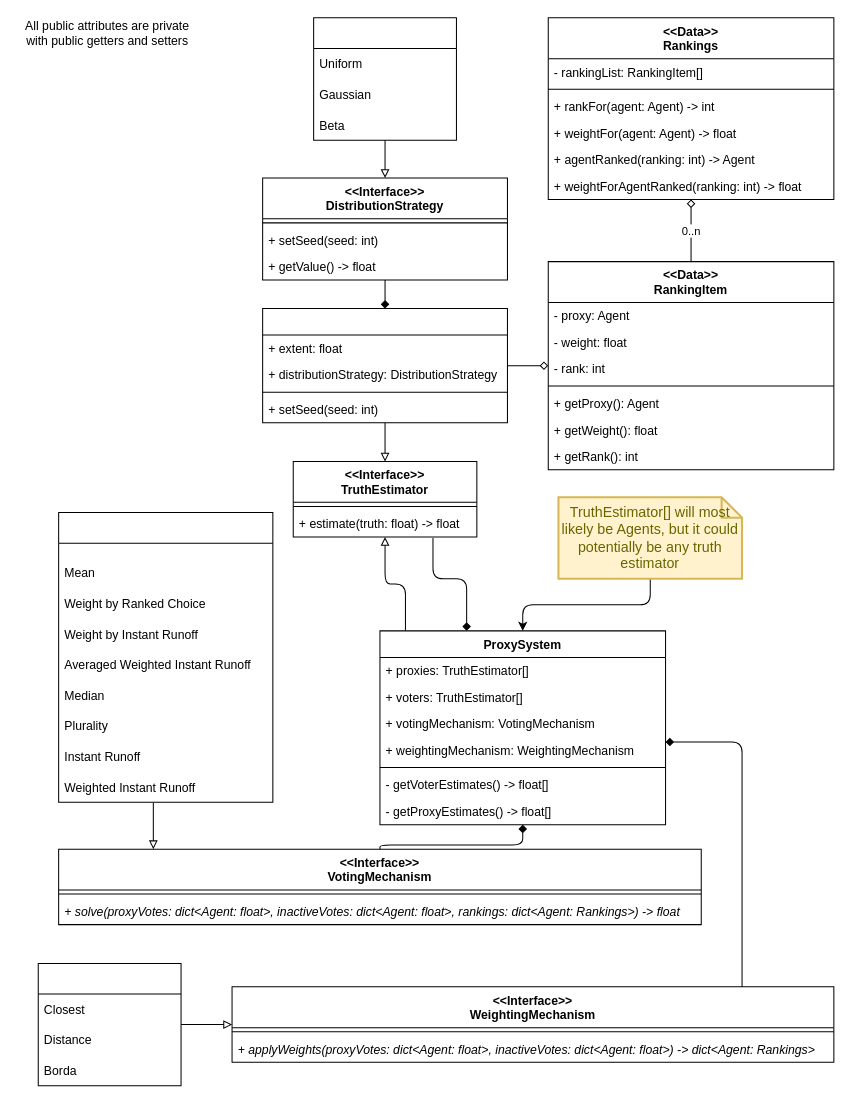
Image size: 852x1104. Some labels were removed from this diagram. The box of each missing label's shape, as (x1, y1, x2, y2) in pixels:
Agent: (262, 308, 507, 423)
Distribution Strategies: (313, 17, 456, 140)
Voting Mechanisms: (58, 512, 273, 802)
Weighting Mechanisms: (37, 962, 181, 1086)
